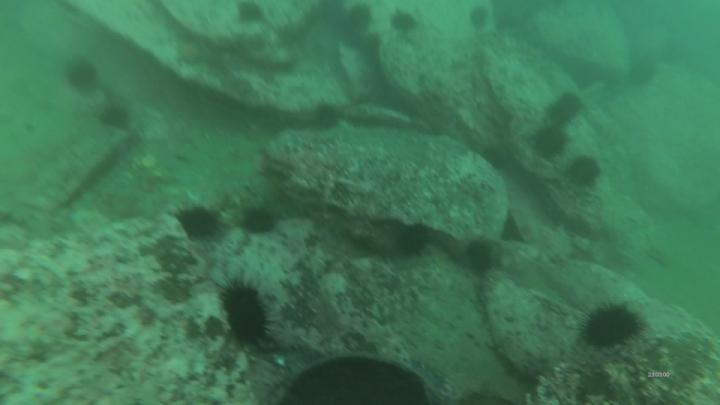echinus: (224, 289, 267, 341), (587, 306, 641, 345), (180, 211, 218, 240), (549, 94, 582, 123), (570, 156, 600, 185), (400, 224, 430, 253), (466, 241, 494, 271), (67, 61, 96, 89), (537, 129, 565, 157), (244, 210, 275, 234), (317, 104, 337, 126), (391, 12, 415, 30), (350, 8, 371, 28), (106, 111, 126, 131), (473, 8, 492, 29), (238, 4, 260, 21)
starfish: (178, 36, 208, 66)
